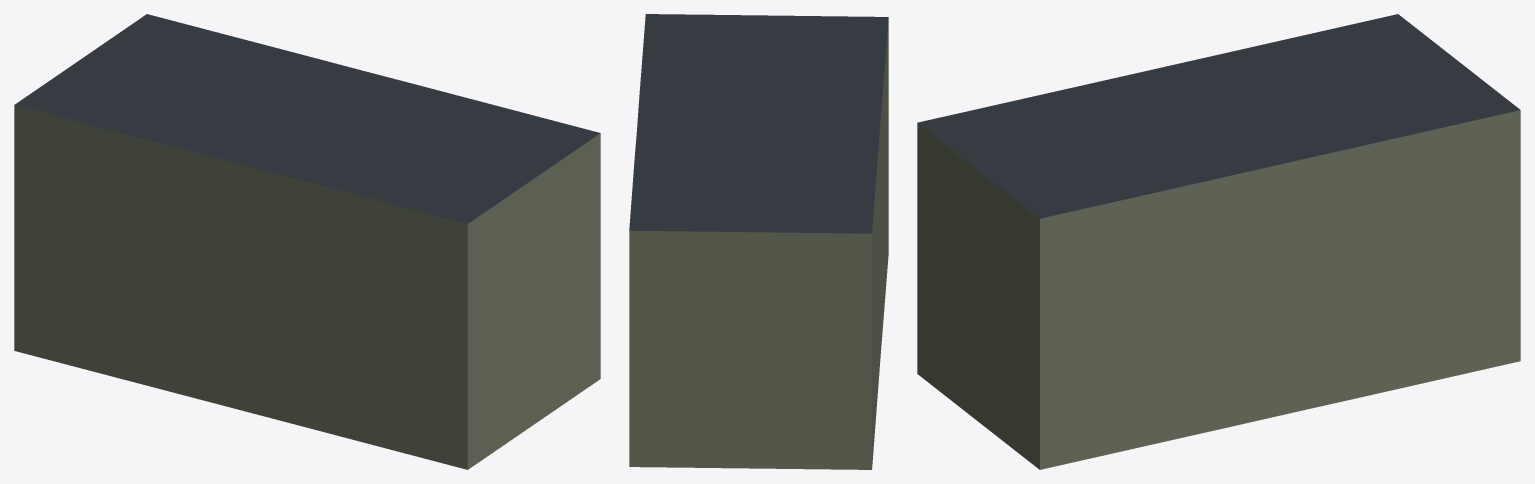
Rendered from nyc-1022638-0.glb.
3 views of the same model, side by side, from view 1: azimuth 30°, elevation 25°; view 2: azimuth 150°, elevation 25°; view 3: azimuth 270°, elevation 25° (orthographic). The views are drawn at different scales.
Parts seen in each view (by area): view 1: nyc-1022638-0; view 2: nyc-1022638-0; view 3: nyc-1022638-0.
Part boxes in pixels (left/top/right/bottom): nyc-1022638-0: left=14, top=14, right=600, bottom=469; nyc-1022638-0: left=629, top=14, right=888, bottom=469; nyc-1022638-0: left=917, top=14, right=1520, bottom=469.
Size of the model in its own units: 21.86 by 12.5 by 27.22.
